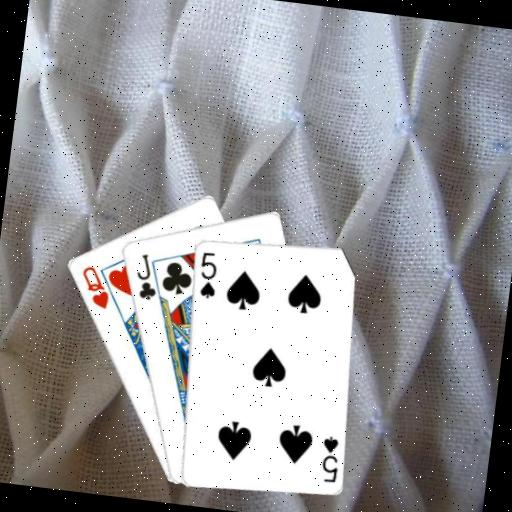5S: (315, 432, 343, 485), (194, 248, 221, 301)
JC: (130, 249, 162, 302)
QH: (75, 262, 114, 311)
